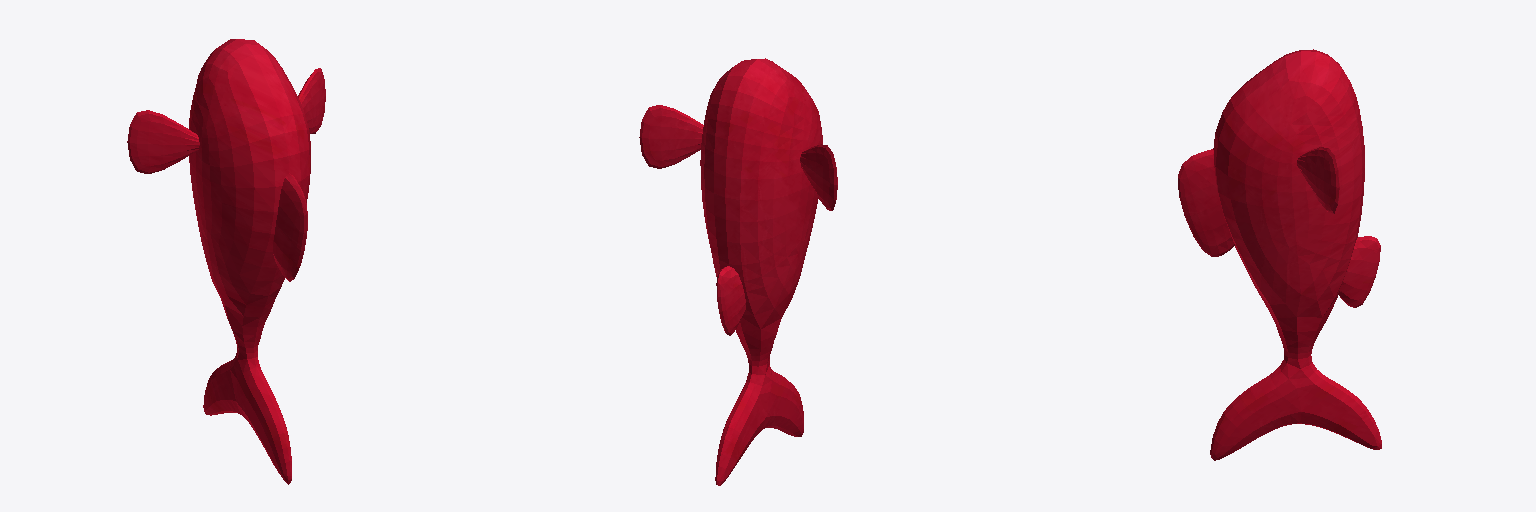
3 renders of one model, left to right at view 1: azimuth 30°, elevation 25°; view 2: azimuth 150°, elevation 25°; view 3: azimuth 270°, elevation 25°, orthographic.
Visible parts, largest first — view 1: Object.1; view 2: Object.1; view 3: Object.1.
Part boxes in pixels (left/top/right/bottom): Object.1: left=127, top=39, right=325, bottom=484; Object.1: left=639, top=58, right=837, bottom=485; Object.1: left=1178, top=49, right=1381, bottom=460.
Size of the model in its own units: 88.19 by 174 by 79.09.
1 materials, 1 textured.